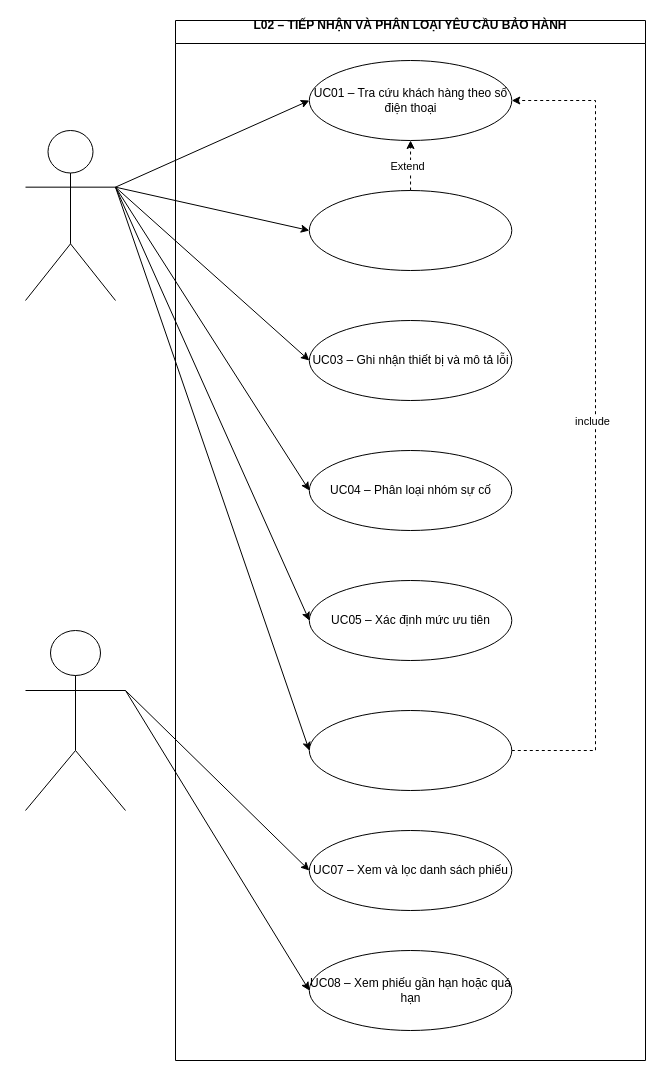
This 663x1078 diagram has some shape labels left out. The box of each missing label's shape, as (x1, y1, x2, y2) in pixels:
Nhân viên tiếp nhận: (24, 130, 116, 300)
Quản lý trung tâm: (24, 630, 126, 810)
UC02 – Tạo thông tin khách hàng mới: (308, 190, 512, 270)
UC06 – Tạo phiếu và sinh hạn cam kết: (308, 710, 512, 790)
